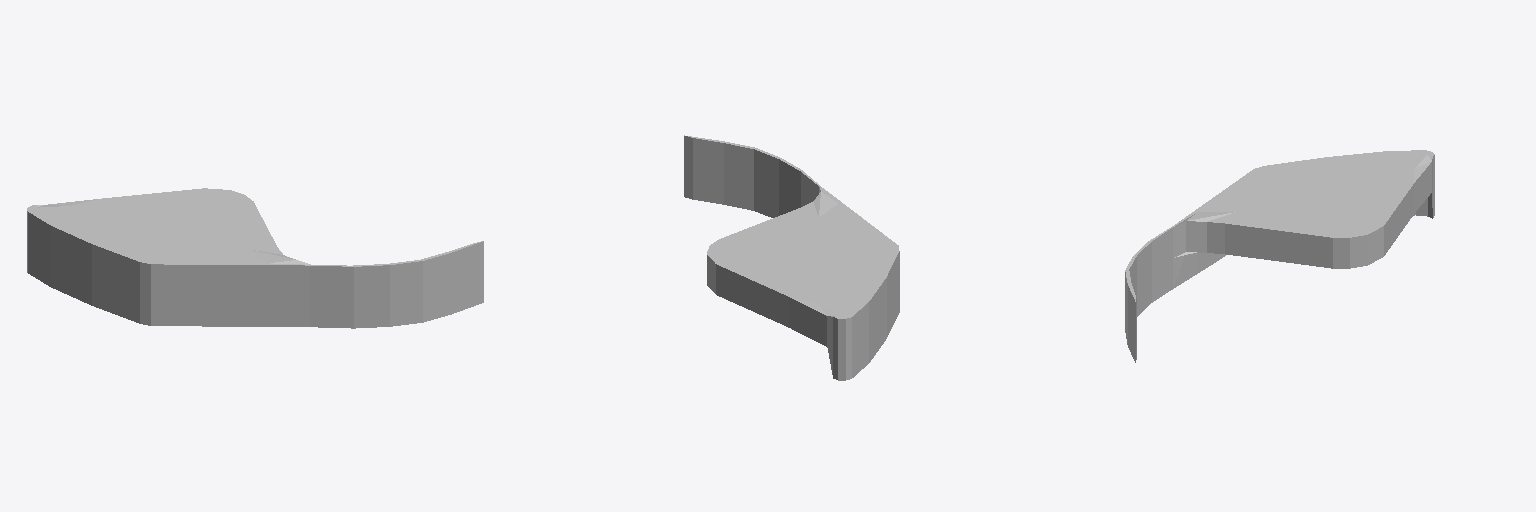
Rendered from Bucket Plastic.obj.
3 renders of one model, left to right at view 1: azimuth 30°, elevation 25°; view 2: azimuth 150°, elevation 25°; view 3: azimuth 270°, elevation 25°, orthographic.
Parts seen in each view (by area): view 1: Cube; view 2: Cube; view 3: Cube.
Boxes of the visible parts, box(x1,y1,x2,y2) form: Cube: box(27, 188, 483, 328); Cube: box(684, 135, 899, 380); Cube: box(1125, 150, 1434, 362).
Size of the model in its own units: 10.59 by 2.07 by 9.09.